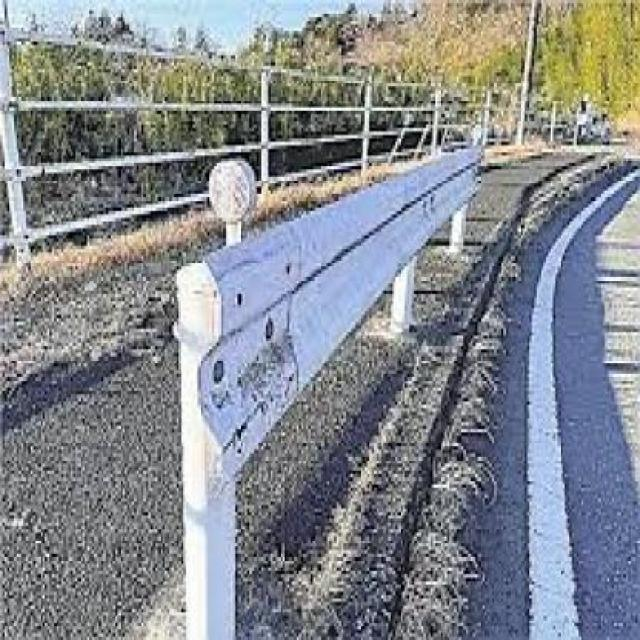Guard rail: (174, 123, 489, 632)
